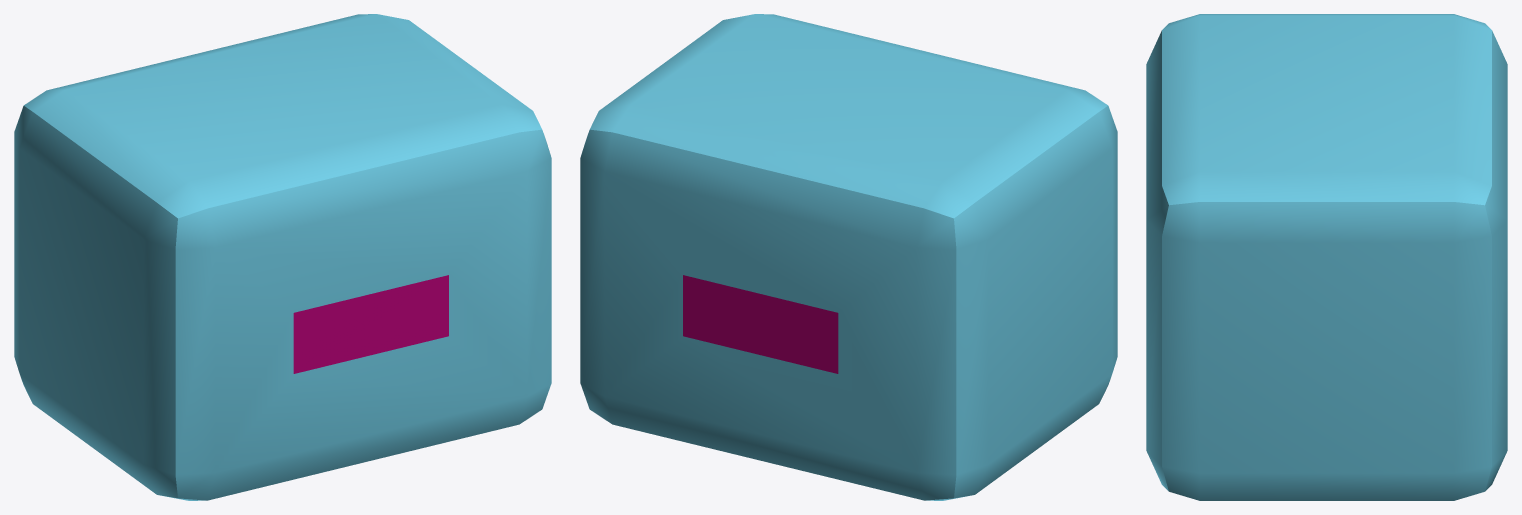
File: obj_containers_battery_lod1.fbx
3 renders of one model, left to right at view 1: azimuth 30°, elevation 25°; view 2: azimuth 150°, elevation 25°; view 3: azimuth 270°, elevation 25°, orthographic. The views are drawn at different scales.
Visible parts, largest first — view 1: 1_battery; view 2: 1_battery; view 3: 1_battery.
Boxes of the visible parts, x1,y1,x2,y2 form: 1_battery: [14, 14, 551, 500]; 1_battery: [580, 14, 1117, 500]; 1_battery: [1146, 14, 1507, 500].
Size of the model in its own units: 4 by 3.04 by 3.04.
